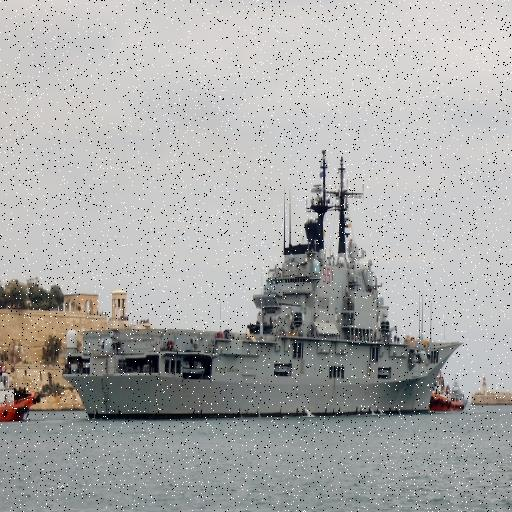Portanaves: (54, 146, 469, 419)
